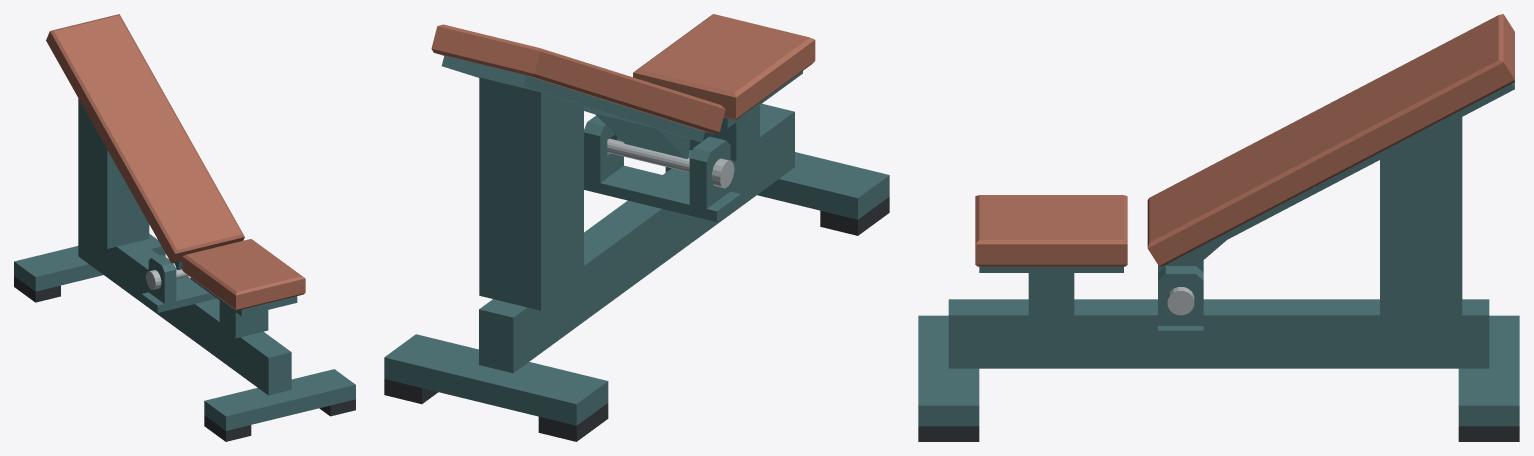
The picture shows the model from 3 angles, left to right: view 1: azimuth 30°, elevation 25°; view 2: azimuth 150°, elevation 25°; view 3: azimuth 270°, elevation 25°; orthographic projection. The views are drawn at different scales.
Parts seen in each view (by area): view 1: Back_LongThickCushion, Frame_LowLongitudinalBeam, Back_FixedBroadRearSupport, Seat_ShortThickCushion, Frame_Front_TransverseFoot, Frame_Rear_TransverseFoot, Seat_FrontPost, Hinge_TransverseBaseBridge, Hinge_Left_TruePiercedEar, Seat_SeparateUnderplate, Ground_Front_Left, Ground_Rear_Left (+2 smaller); view 2: Back_FixedBroadRearSupport, Frame_LowLongitudinalBeam, Seat_ShortThickCushion, Frame_Rear_TransverseFoot, Back_LongThickCushion, Frame_Front_TransverseFoot, Hinge_TransverseBaseBridge, Back_SeparateInclinedUnderplate, Hinge_Left_TruePiercedEar, Back_FiniteHingeTongue, Hinge_Right_TruePiercedEar, Hinge_ContinuousPinIntegralShoulders (+4 smaller); view 3: Frame_LowLongitudinalBeam, Back_LongThickCushion, Back_FixedBroadRearSupport, Seat_ShortThickCushion, Frame_Front_TransverseFoot, Frame_Rear_TransverseFoot, Back_SeparateInclinedUnderplate, Seat_FrontPost, Hinge_Right_TruePiercedEar, Seat_SeparateUnderplate, Ground_Front_Right, Ground_Rear_Right (+2 smaller).
Boxes of the visible parts, box(x1,y1,x2,y2) form: Back_LongThickCushion: box(46, 14, 244, 263); Frame_LowLongitudinalBeam: box(78, 228, 291, 395); Back_FixedBroadRearSupport: box(78, 98, 149, 248); Seat_ShortThickCushion: box(182, 239, 305, 310); Frame_Front_TransverseFoot: box(204, 369, 355, 430); Frame_Rear_TransverseFoot: box(14, 234, 165, 291); Seat_FrontPost: box(219, 300, 268, 338); Hinge_TransverseBaseBridge: box(141, 281, 216, 312); Hinge_Left_TruePiercedEar: box(148, 255, 176, 303); Seat_SeparateUnderplate: box(190, 277, 297, 316); Ground_Front_Left: box(204, 415, 251, 441); Ground_Rear_Left: box(14, 276, 60, 302); Back_FixedBroadRearSupport: box(479, 77, 583, 310); Frame_LowLongitudinalBeam: box(479, 103, 794, 373); Seat_ShortThickCushion: box(633, 14, 815, 120); Frame_Rear_TransverseFoot: box(384, 334, 608, 425); Back_LongThickCushion: box(431, 24, 725, 134); Frame_Front_TransverseFoot: box(665, 150, 889, 219); Hinge_TransverseBaseBridge: box(584, 165, 740, 222); Back_SeparateInclinedUnderplate: box(441, 55, 704, 141); Hinge_Left_TruePiercedEar: box(689, 136, 730, 208); Back_FiniteHingeTongue: box(595, 113, 690, 158); Hinge_Right_TruePiercedEar: box(584, 115, 623, 182); Hinge_ContinuousPinIntegralShoulders: box(607, 138, 734, 188); Frame_LowLongitudinalBeam: box(948, 299, 1489, 368); Back_LongThickCushion: box(1147, 14, 1514, 266); Back_FixedBroadRearSupport: box(1380, 117, 1462, 321); Seat_ShortThickCushion: box(975, 195, 1127, 266); Frame_Front_TransverseFoot: box(918, 315, 979, 426); Frame_Rear_TransverseFoot: box(1458, 315, 1519, 426); Back_SeparateInclinedUnderplate: box(1169, 80, 1514, 265); Seat_FrontPost: box(1028, 273, 1074, 318); Hinge_Right_TruePiercedEar: box(1158, 266, 1203, 325); Seat_SeparateUnderplate: box(979, 266, 1123, 272); Ground_Front_Right: box(918, 426, 979, 441); Ground_Rear_Right: box(1458, 426, 1519, 441).
Bounding box in the file's own units: 0.56 × 1.04 × 1.58.
